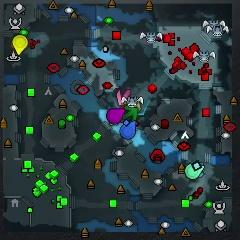p1: (120, 120, 137, 140)
p2: (185, 163, 204, 180)
p3: (106, 108, 126, 125)
p4: (13, 34, 28, 57)
x1: (116, 89, 131, 106)
x4: (124, 106, 138, 122)
